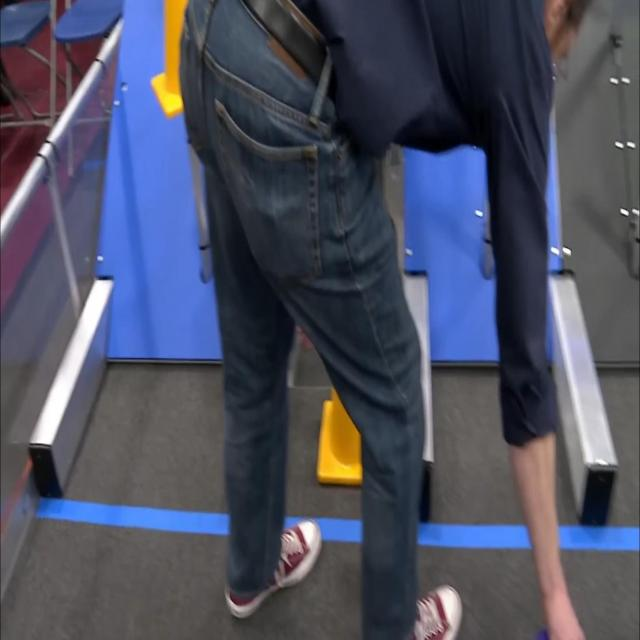frc_cone: (318, 385, 363, 489), (149, 0, 185, 118)
